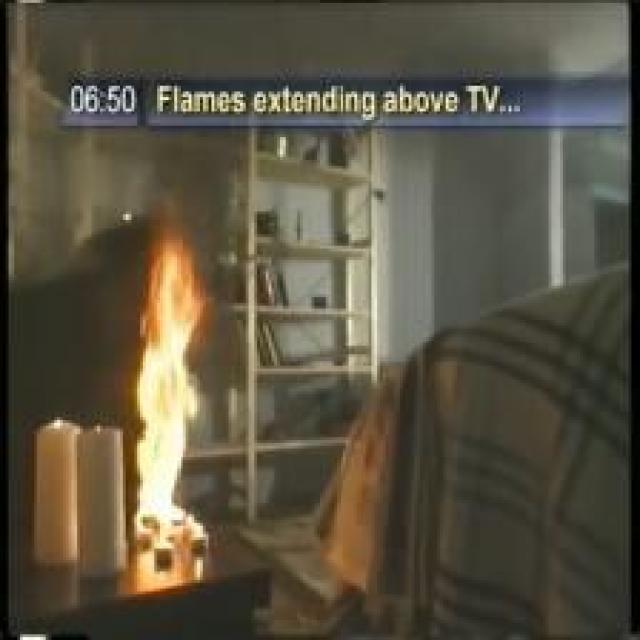Fire: (136, 218, 216, 554)
